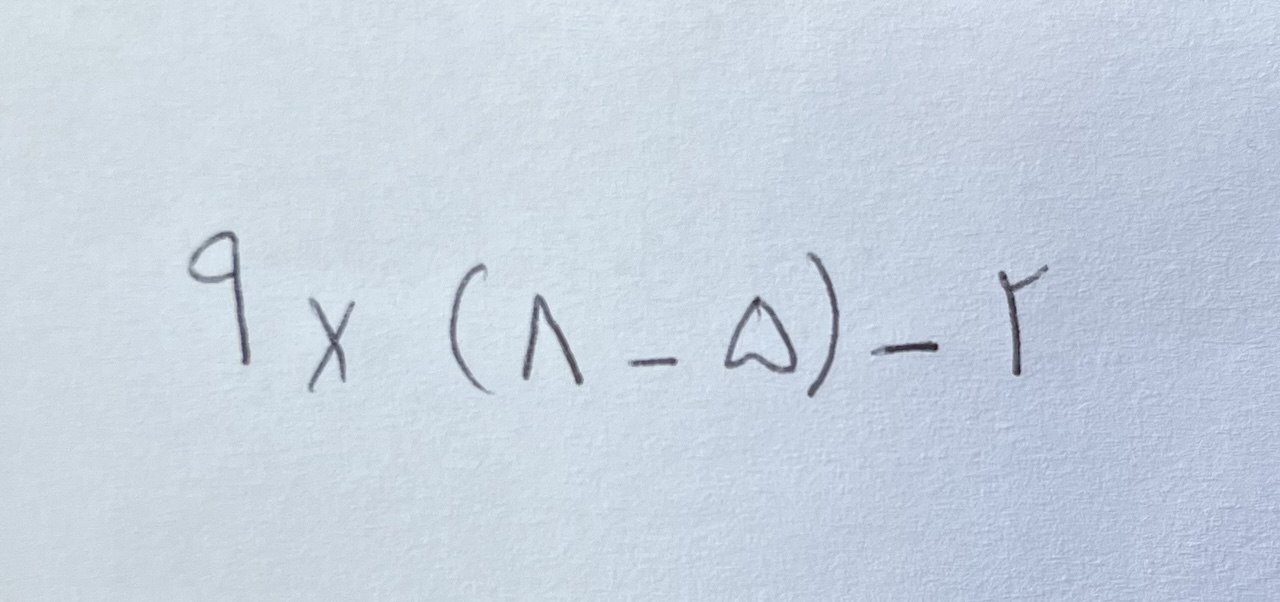character: (188, 230, 251, 366), (440, 262, 497, 396), (720, 294, 800, 378), (996, 262, 1051, 379), (520, 292, 585, 386), (804, 250, 841, 400), (308, 297, 354, 393), (868, 339, 941, 361), (629, 356, 679, 367)
